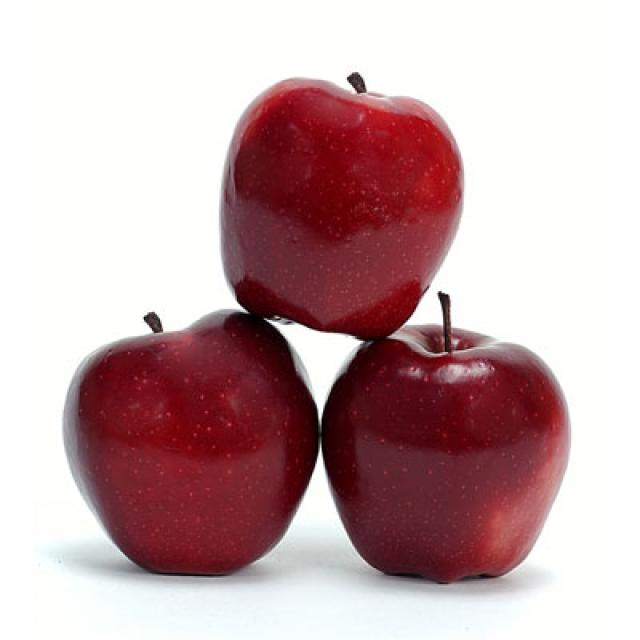apple: (327, 299, 572, 583), (216, 65, 471, 336), (65, 303, 318, 574)
